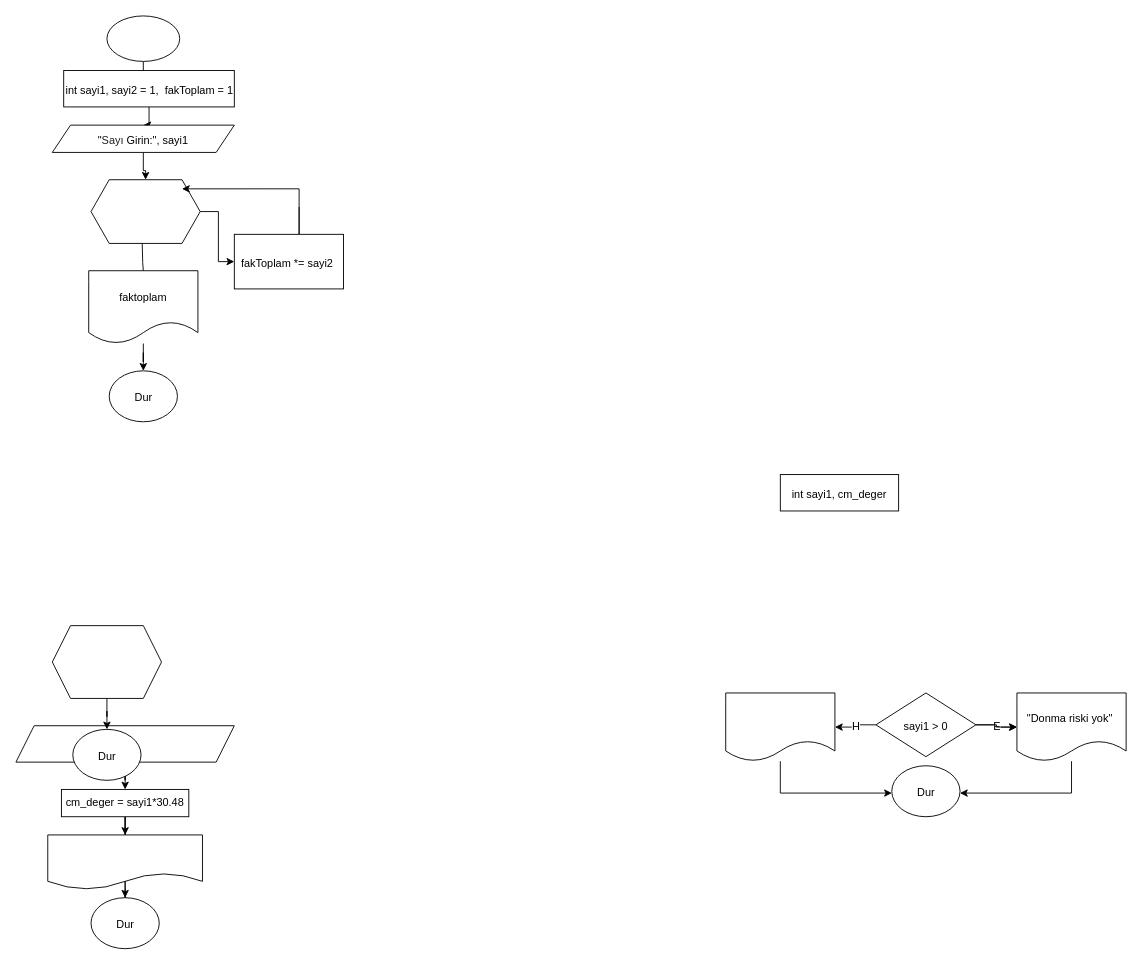
Some shapes in this 1142 by 965 pixel diagram are drawn without their labels. The shapes that lost their labels are listed below. From the top down, each one's box as (x1, y1, x2, y2) in pixels, then its label:
(106, 15, 180, 61): Başla
(90, 179, 200, 243): sayi2,sayi1,1
(51, 625, 162, 698): sayi1,10,1
(15, 725, 234, 762): " Feet Değeri Girin:", sayi1
(725, 692, 835, 761): " Donma riski var"
(47, 834, 202, 890): "Girdiğiniz sayının cm cinsinden değeri: ", cm_deger
